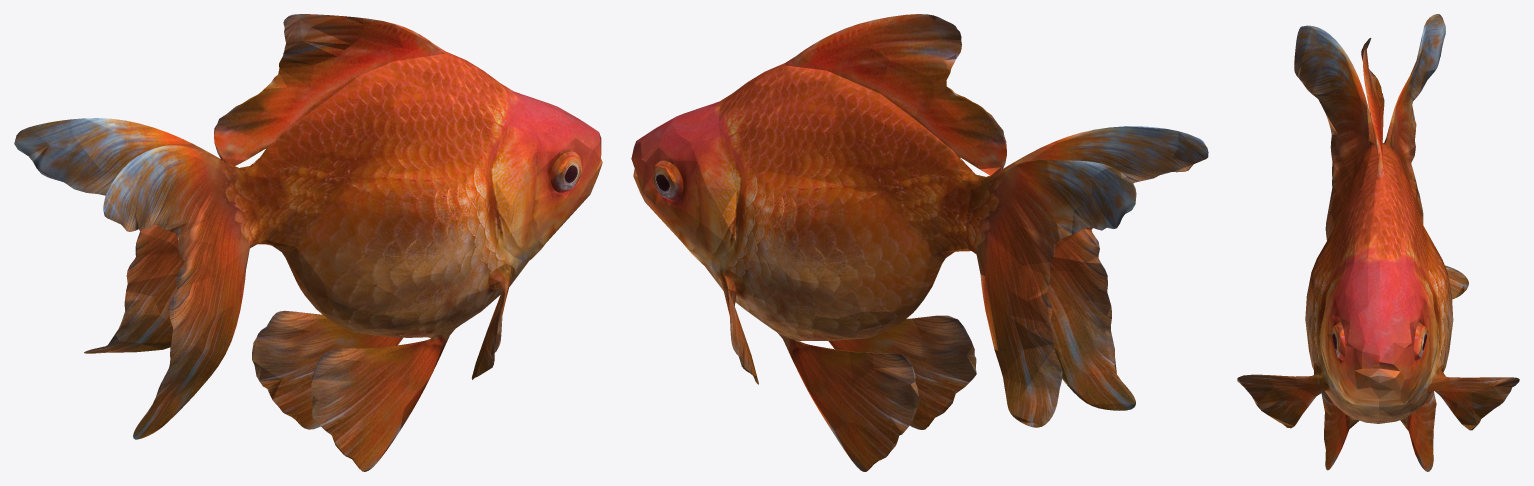
The model's file is Pez_Dorado.obj.
The picture shows the model from 3 angles, left to right: view 1: azimuth 30°, elevation 25°; view 2: azimuth 150°, elevation 25°; view 3: azimuth 270°, elevation 25°; orthographic projection. The views are drawn at different scales.
Parts seen in each view (by area): view 1: Pez_Dorado:Ryukin_Goldfish; view 2: Pez_Dorado:Ryukin_Goldfish; view 3: Pez_Dorado:Ryukin_Goldfish.
Boxes of the visible parts, <box> form: Pez_Dorado:Ryukin_Goldfish: <box>14,14,602,471</box>; Pez_Dorado:Ryukin_Goldfish: <box>631,14,1208,471</box>; Pez_Dorado:Ryukin_Goldfish: <box>1237,14,1519,471</box>.
Bounding box in the file's own units: 7.37 × 5.77 × 3.62.
Materials: 1 (1 with a texture image).
